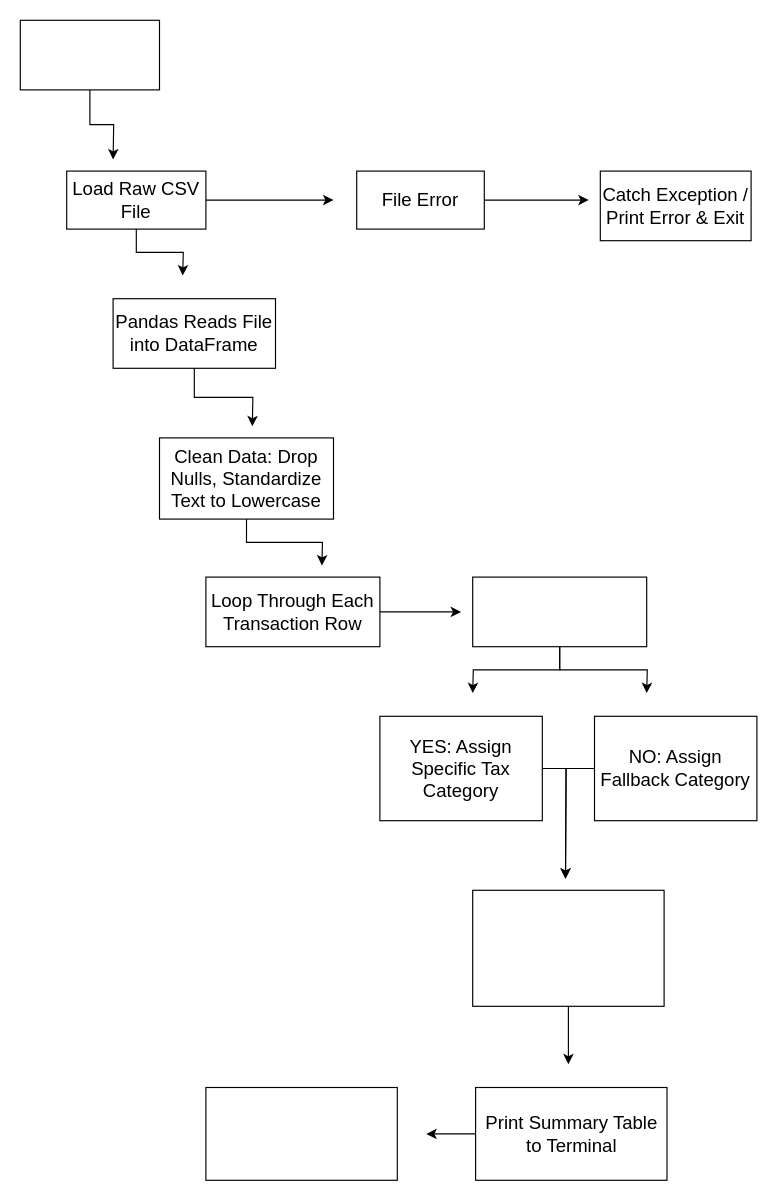
Some shapes in this 777 by 1201 pixel diagram are drawn without their labels. Here are the shapes that lost their labels. From the top down, the centre of each, then its label:
At point 89,54: "User Runs Python Script".
At point 559,611: "Does description match keyword / regex rule".
At point 568,947: "Aggregate Data: Group By Tax Category & Sum Amounts".
At point 301,1133: "Export Final Processed Data to New CSV / Excel File".
